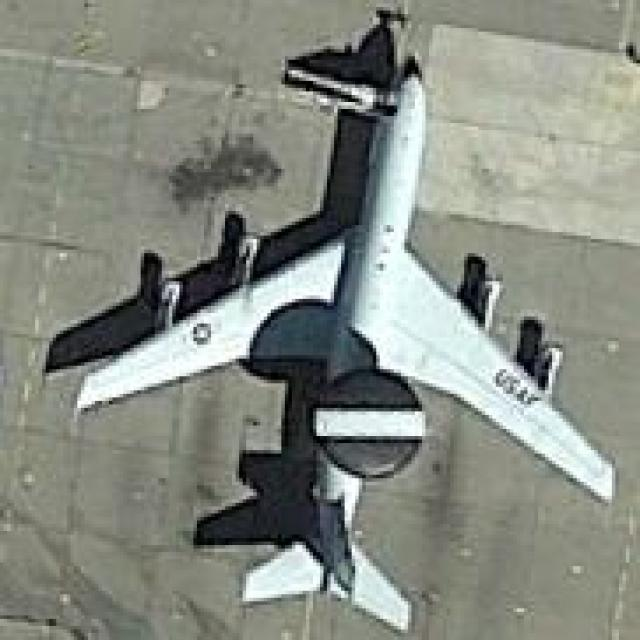E-3_TopDown: (42, 20, 627, 634)
